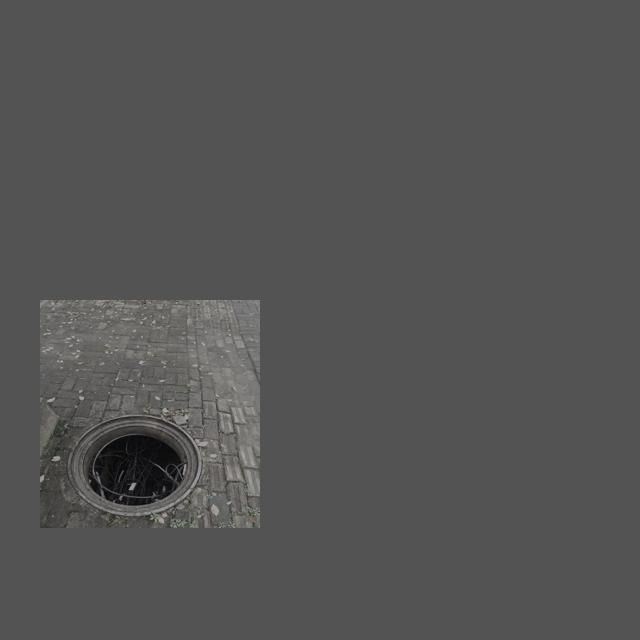lose: (67, 414, 201, 517)
